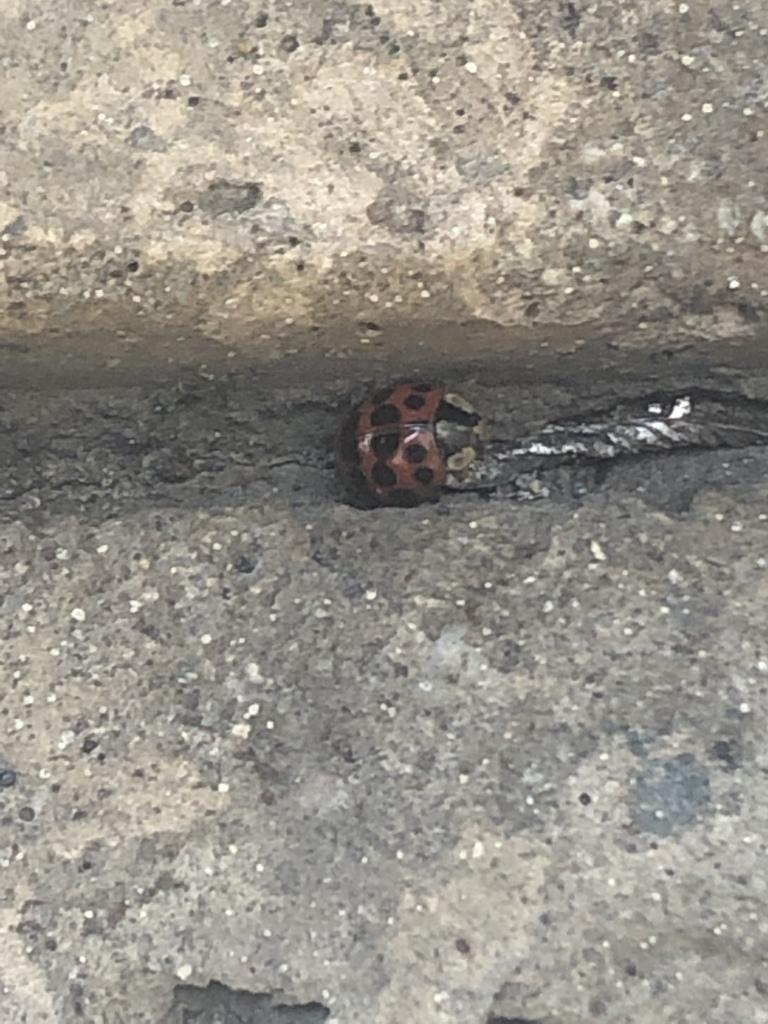ladybug: (333, 380, 491, 510)
